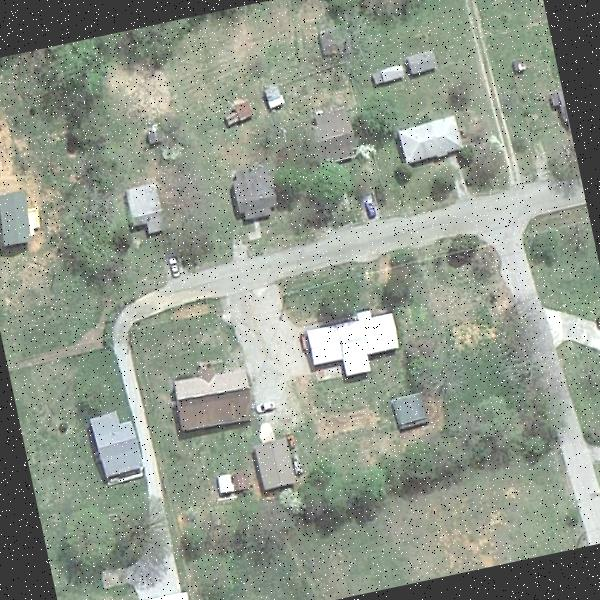Buildings: (304, 306, 412, 379), (168, 366, 259, 438), (86, 416, 147, 482), (223, 169, 281, 224), (113, 177, 170, 228), (254, 433, 300, 492), (308, 110, 362, 158), (398, 121, 462, 160), (0, 182, 30, 255)
